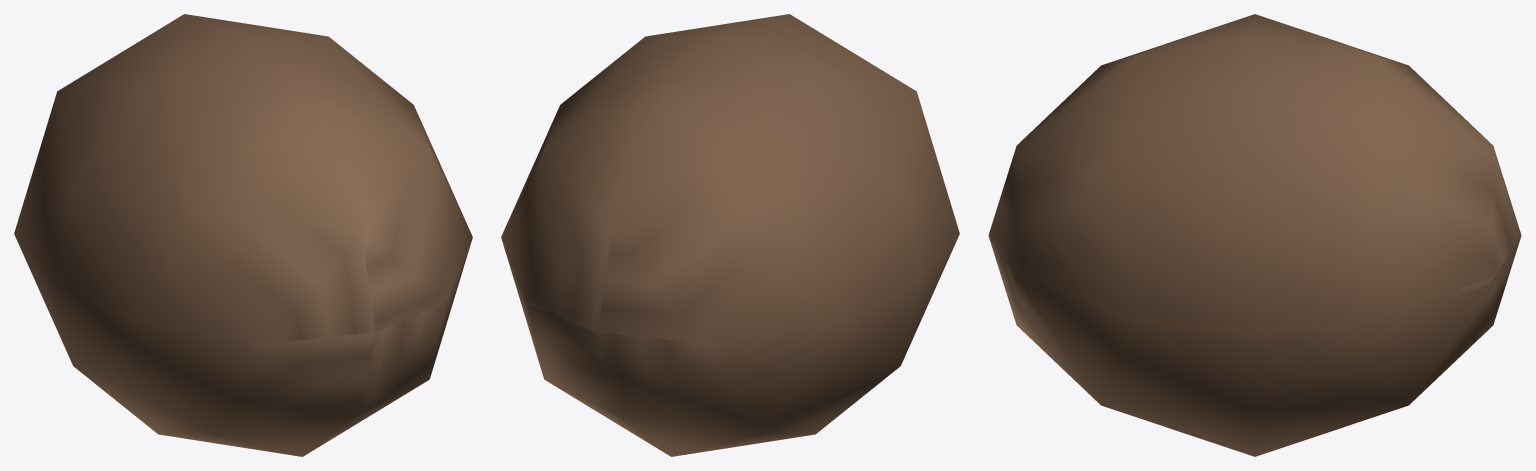
Rendered from coconut.fbx.
3 views of the same model, side by side, from view 1: azimuth 30°, elevation 25°; view 2: azimuth 150°, elevation 25°; view 3: azimuth 270°, elevation 25° (orthographic).
Visible parts, largest first — view 1: itm_coconut; view 2: itm_coconut; view 3: itm_coconut.
Part boxes in pixels (x1,y1,x2,y2): itm_coconut: [14, 14, 472, 456]; itm_coconut: [501, 14, 959, 456]; itm_coconut: [988, 14, 1521, 456].
Bounding box in the file's own units: 102 × 102 × 123.
1 material, 1 textured.
